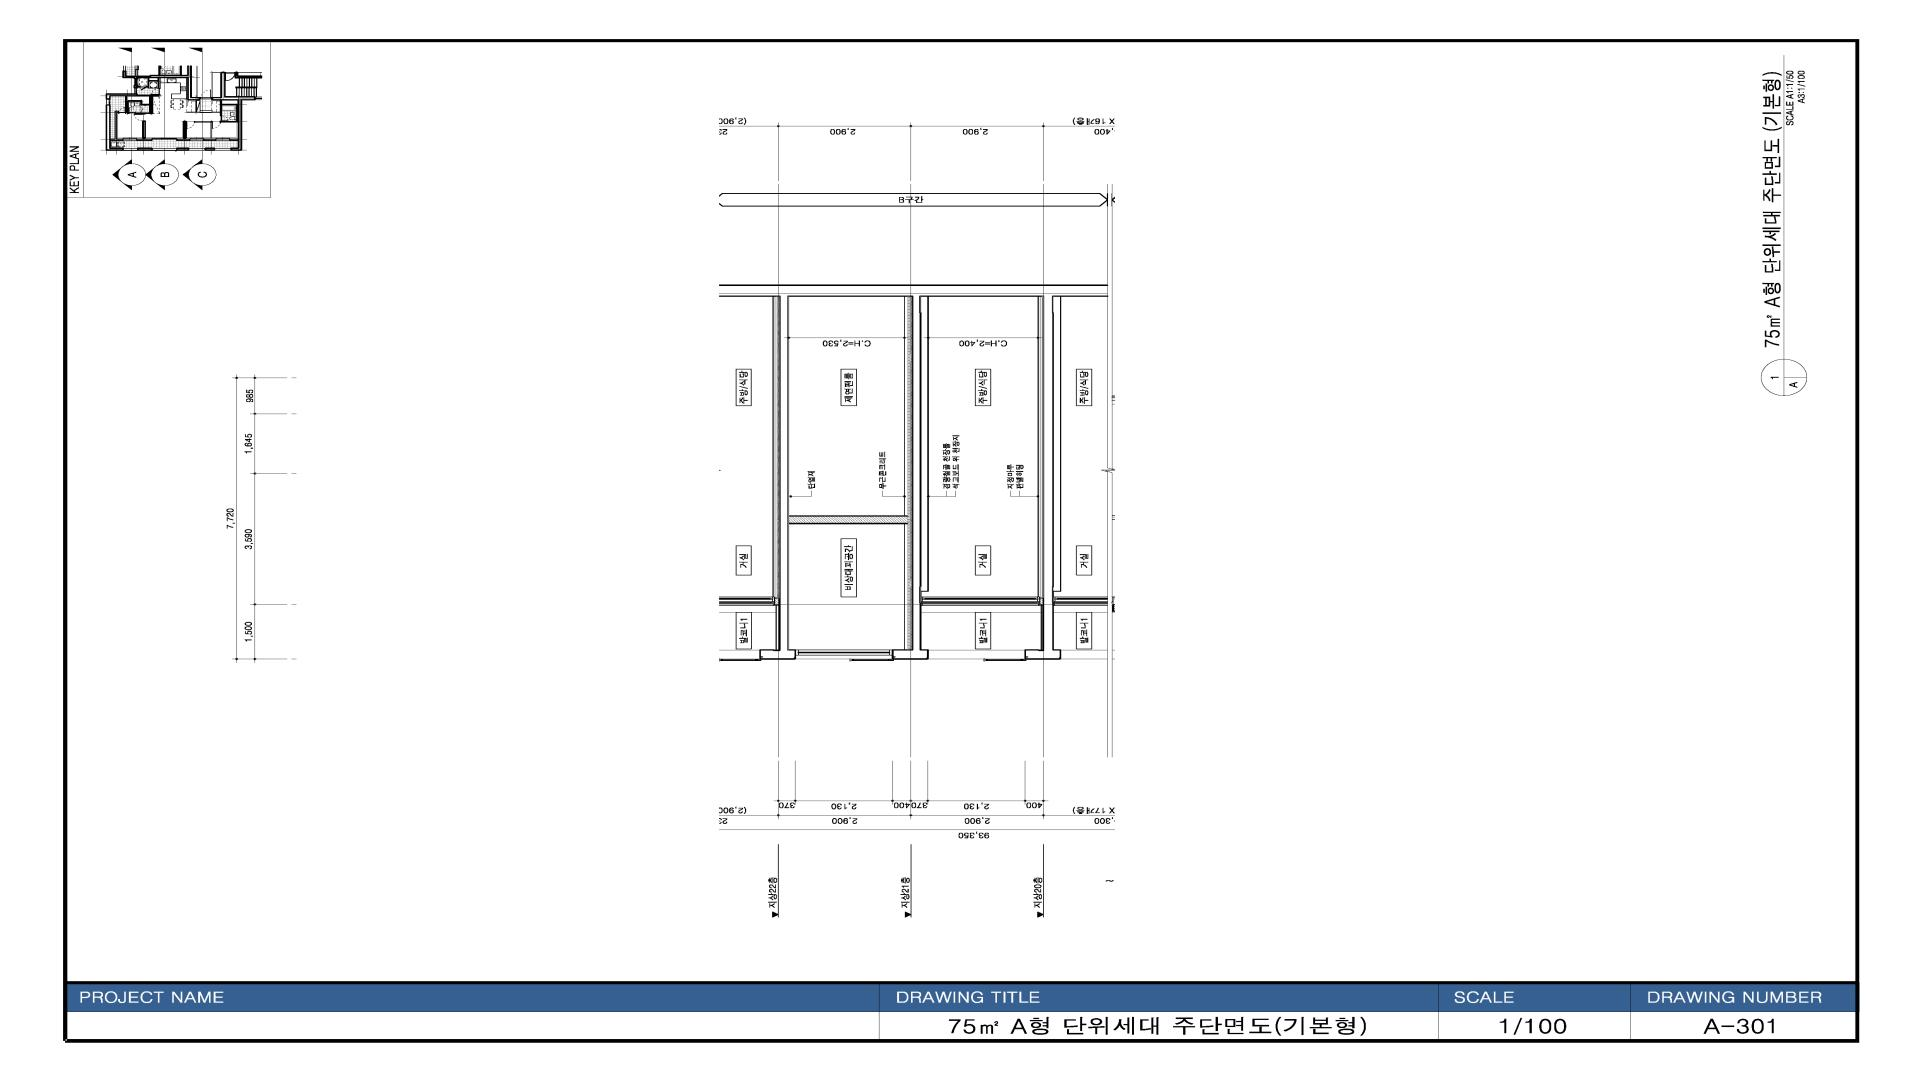wall: (778, 285, 1052, 659), (789, 516, 907, 525), (1039, 597, 1044, 605)
window: (922, 596, 1039, 612), (928, 650, 1025, 659), (796, 650, 891, 659)
